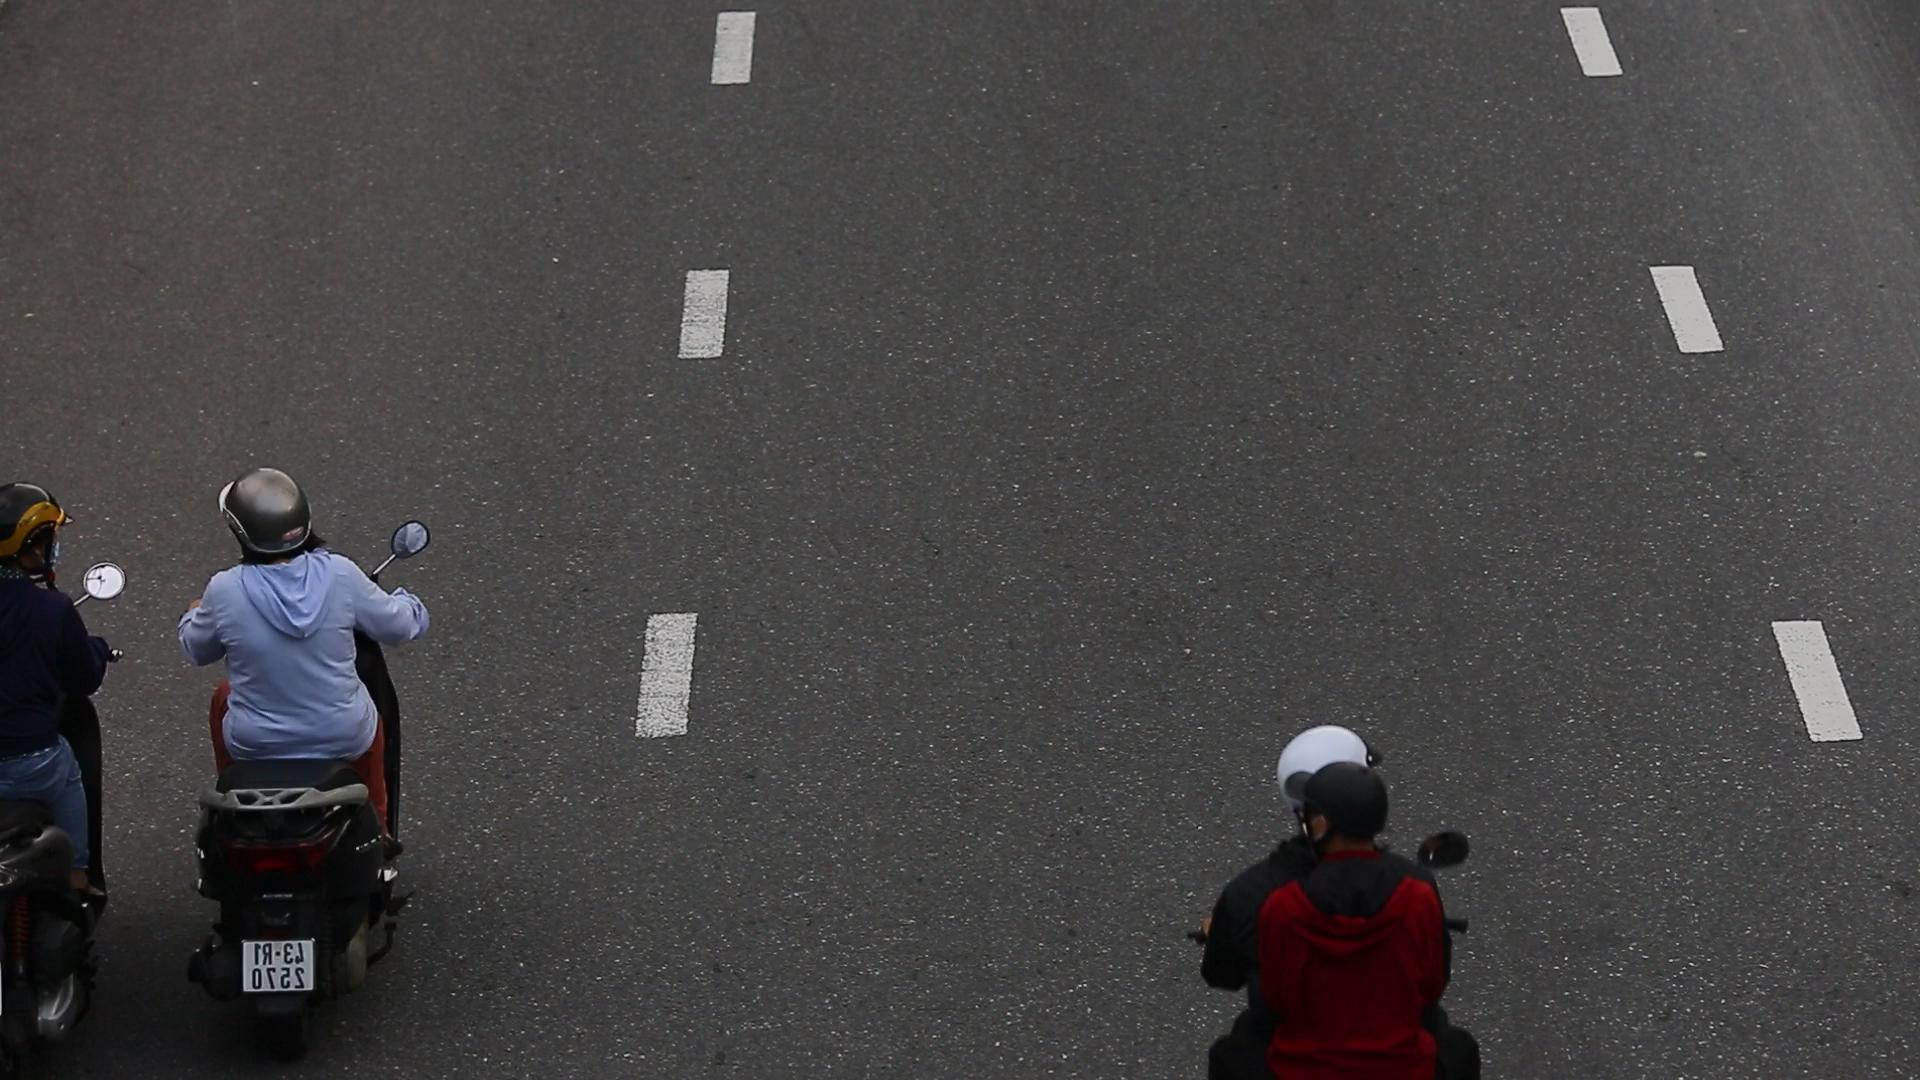motobike: (166, 444, 443, 1065)
